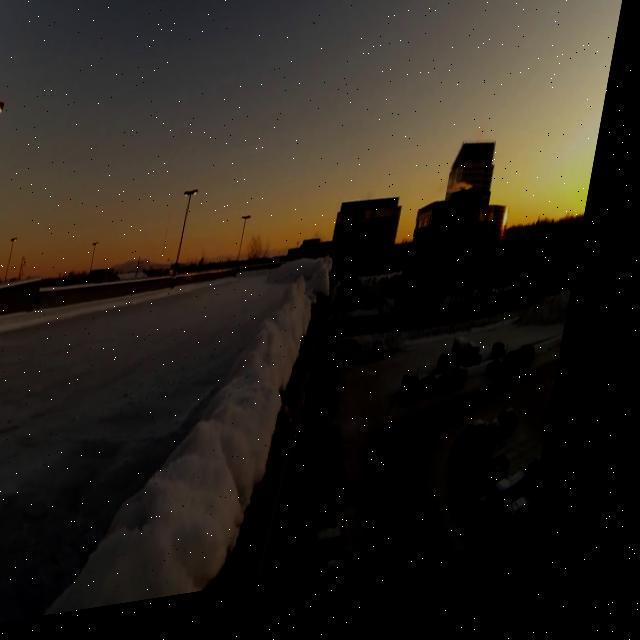Fire: (456, 198, 484, 210)
